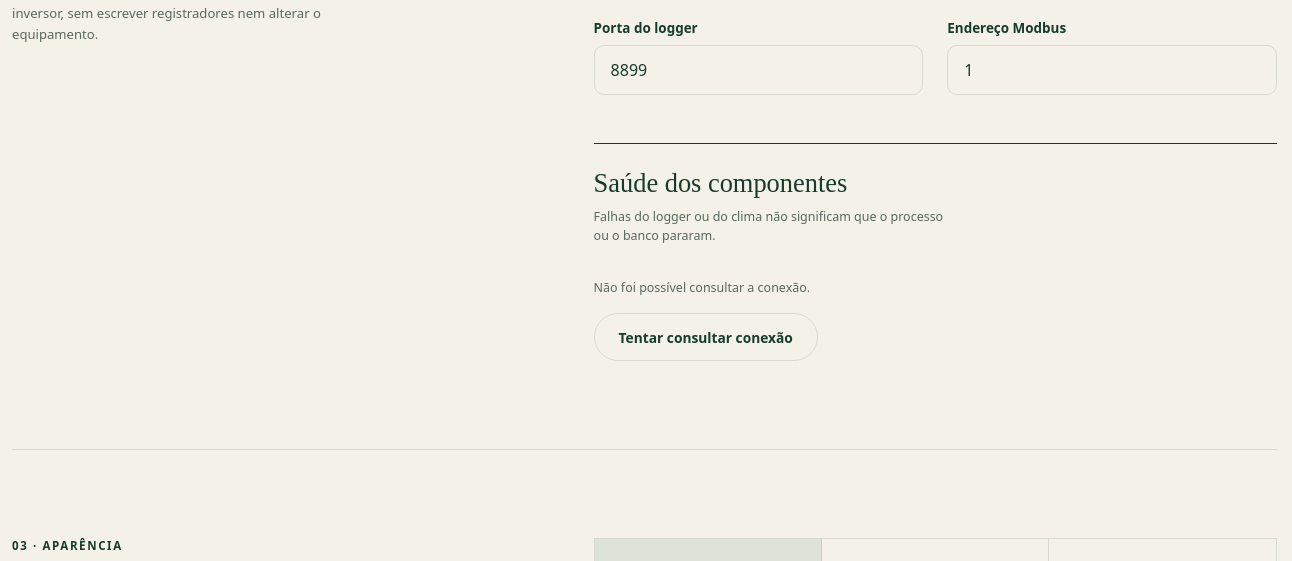
Test: SettingsPage › shows independent process, database, logger, and weather health with retry states
The width and height of the screenshot is (1292, 561).
(page scrolled)
Check: the text "Não foi possível consultar a conexão." is shown, box x1=594 y1=278 x2=810 y2=297
What coordinates should you click on to do the following:
click the button "Tentar consultar conexão"
I would click on:
 (706, 337)
Its box is x1=594 y1=313 x2=818 y2=361.
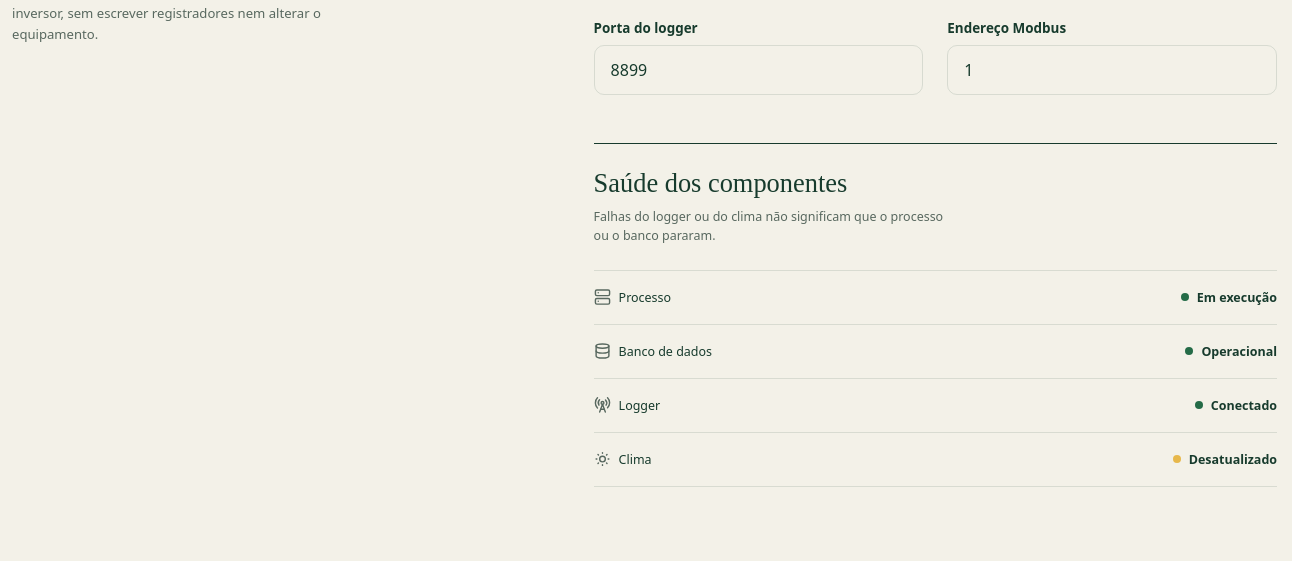
Check: the text "Processo" is shown, box x1=594 y1=285 x2=671 y2=309
Check: the text "Banco de dados" is shown, box x1=594 y1=339 x2=712 y2=363
Check: the text "Logger" is shown, box x1=594 y1=393 x2=660 y2=417
